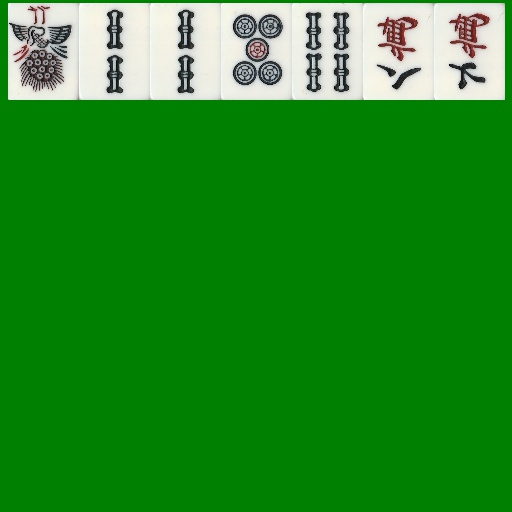1s: (8, 3, 79, 100)
2s: (79, 3, 150, 100), (150, 3, 221, 100)
4s: (292, 3, 363, 100)
5p: (221, 3, 292, 100)
7m: (434, 3, 505, 100)
8m: (363, 3, 434, 100)
